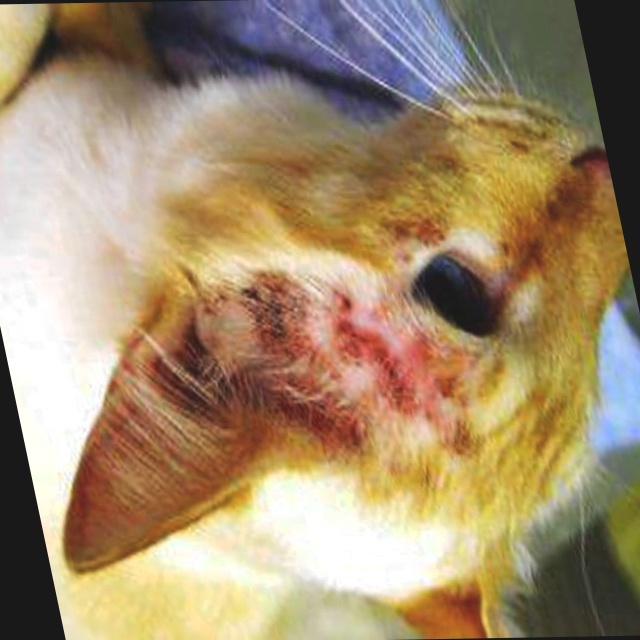ringworm: (228, 273, 503, 463)
